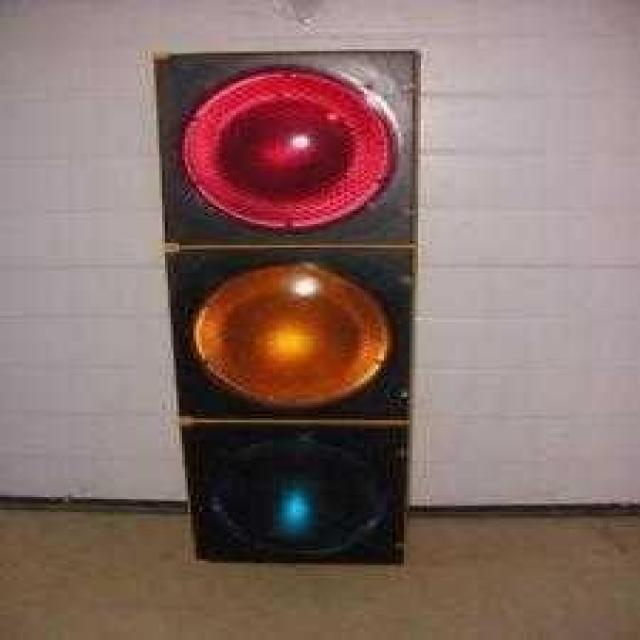Traffic Light -Off-: (148, 30, 421, 606)
